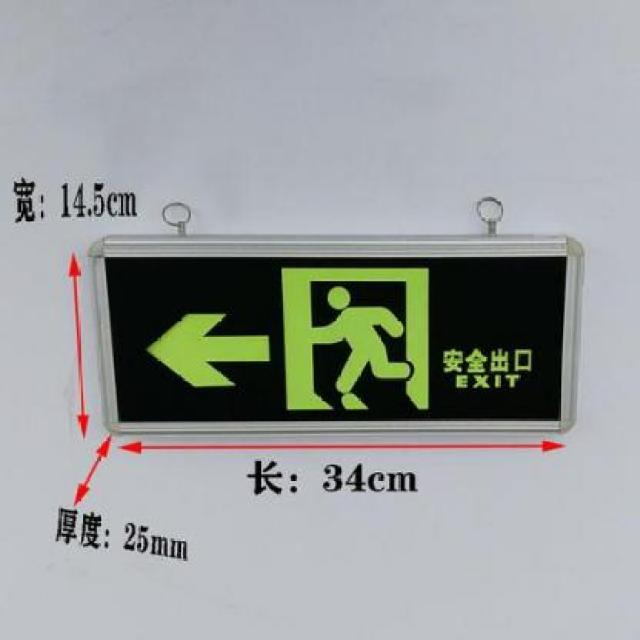exit_sign: (101, 246, 574, 429)
